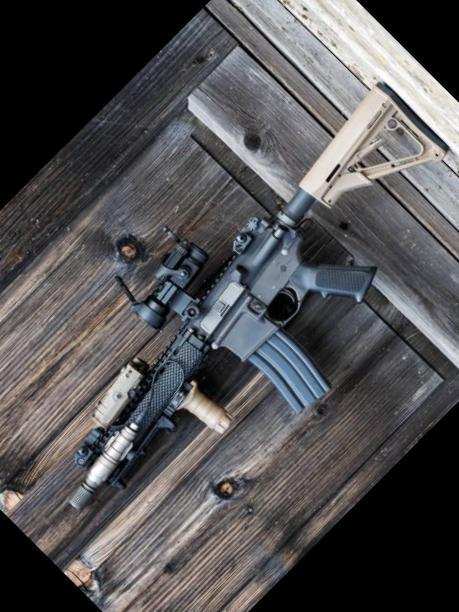larga: (67, 80, 450, 512)
